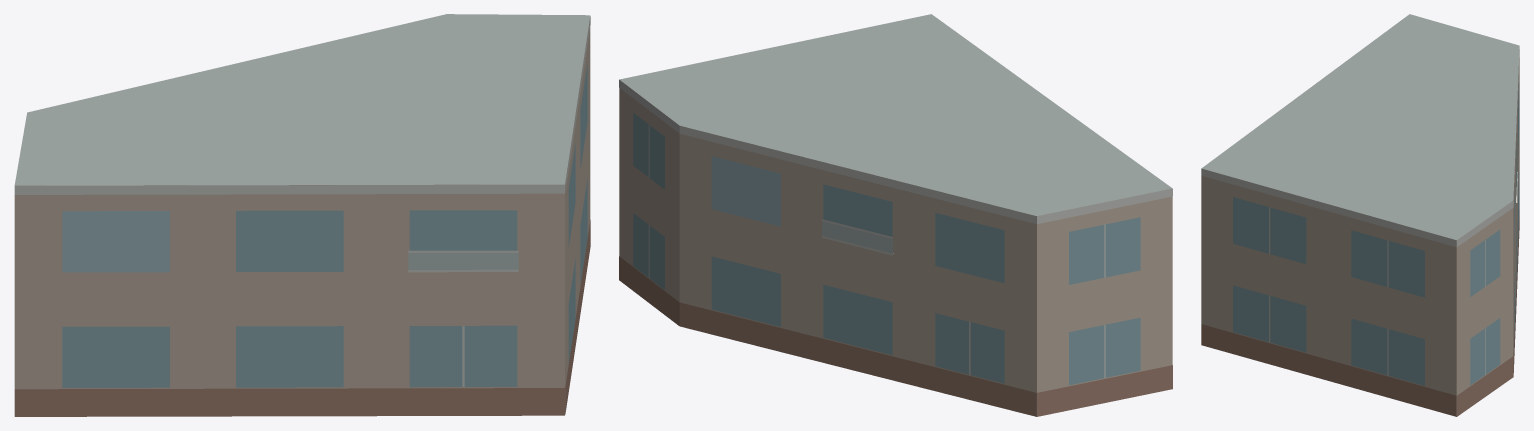
The model's file is survey-upis-32773693.glb.
3 renders of one model, left to right at view 1: azimuth 30°, elevation 25°; view 2: azimuth 150°, elevation 25°; view 3: azimuth 270°, elevation 25°, orthographic. The views are drawn at different scales.
Visible parts, largest first — view 1: survey-upis-32773693.tmp; view 2: survey-upis-32773693.tmp; view 3: survey-upis-32773693.tmp.
Part boxes in pixels (left/top/right/bottom): survey-upis-32773693.tmp: left=14, top=14, right=590, bottom=416; survey-upis-32773693.tmp: left=619, top=14, right=1172, bottom=416; survey-upis-32773693.tmp: left=1201, top=14, right=1519, bottom=416.
Bounding box in the file's own units: 16.77 × 6.1 × 9.98.
